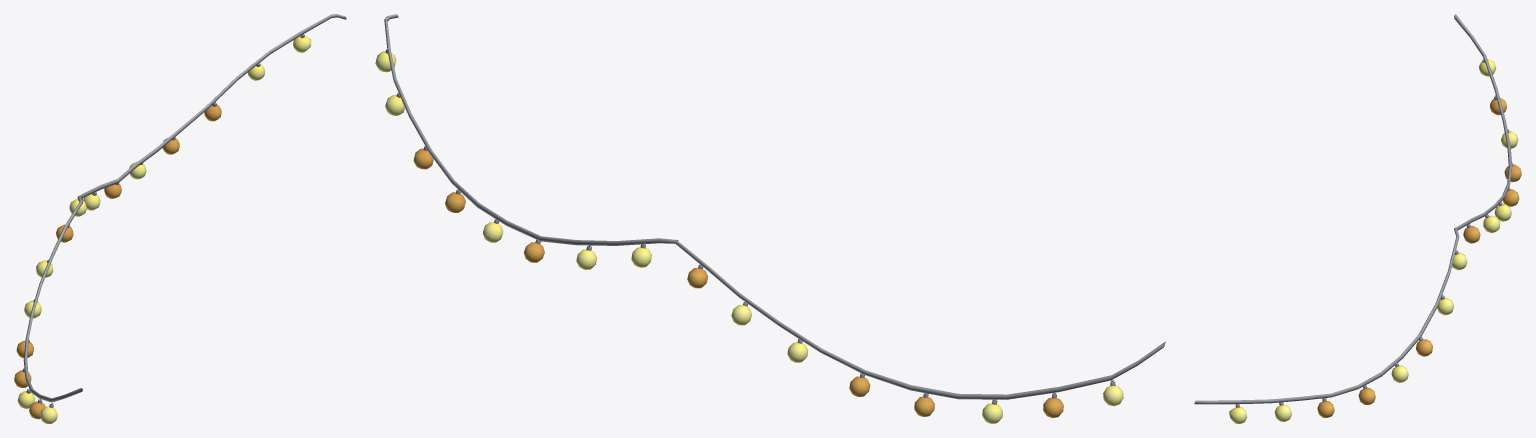
The model's file is pref_sm_beach_winter_lightflag_a_lv3.fbx.
3 renders of one model, left to right at view 1: azimuth 90°, elevation 25°; view 2: azimuth 150°, elevation 25°; view 3: azimuth 270°, elevation 25°, orthographic. The views are drawn at different scales.
Visible parts, largest first — view 1: pref_sm_beach_winter_lightflag_a_lv3; view 2: pref_sm_beach_winter_lightflag_a_lv3; view 3: pref_sm_beach_winter_lightflag_a_lv3.
Part boxes in pixels (x1=…): pref_sm_beach_winter_lightflag_a_lv3: x1=14, y1=14, x2=346, y2=423; pref_sm_beach_winter_lightflag_a_lv3: x1=375, y1=14, x2=1165, y2=423; pref_sm_beach_winter_lightflag_a_lv3: x1=1194, y1=14, x2=1521, y2=423.
Bounding box in the file's own units: 9.53 × 0.9786 × 3.49.
